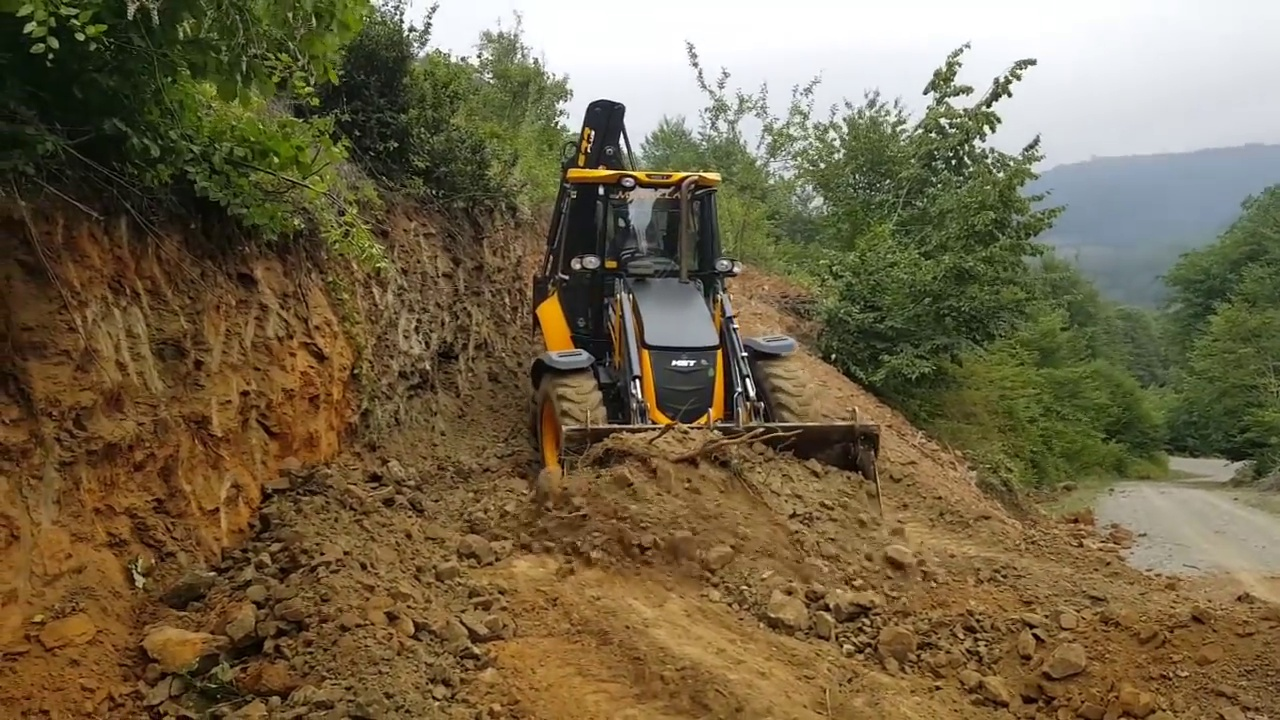wheel loader: (534, 98, 888, 561)
